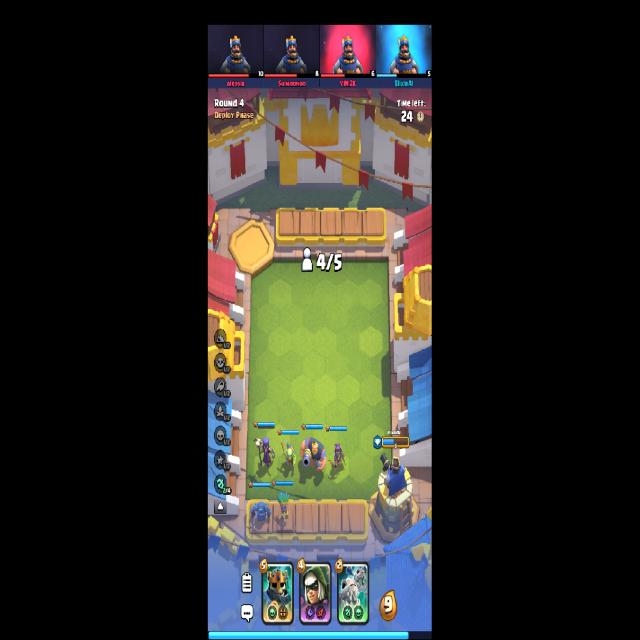archer_queen: (330, 443, 346, 472)
card_bandit: (299, 562, 332, 628)
card_skeleton_dragon: (337, 560, 369, 626)
card_skeleton_king: (262, 562, 294, 625)
dart_goblin: (276, 490, 290, 525)
mini_pekka: (250, 500, 272, 529)
royal_giant: (300, 437, 326, 473)
spear_goblin: (280, 439, 297, 470)
witch: (253, 436, 274, 469)
